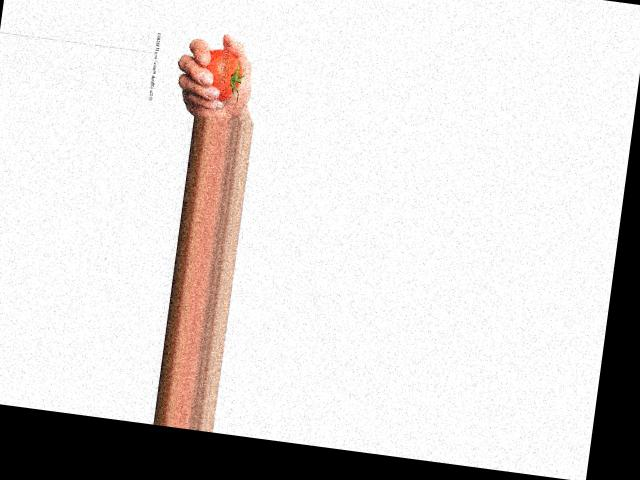tomato: (202, 47, 244, 102)
